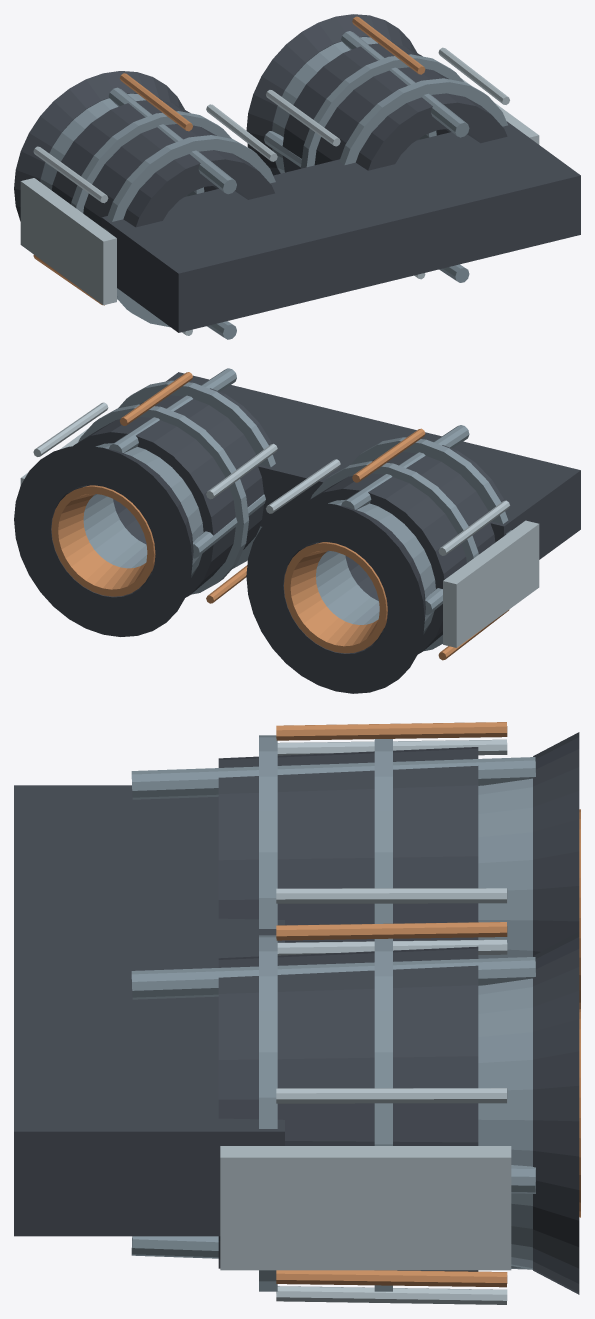
The model's file is engine_stock_v2.glb.
The picture shows the model from 3 angles, top to bottom: view 1: azimuth 30°, elevation 25°; view 2: azimuth 150°, elevation 25°; view 3: azimuth 270°, elevation 25°; orthographic projection. The views are drawn at different scales.
Visible parts, largest first — view 1: ENGINE_MODULAR_CASSETTE_CRADLE, ENGINE_1_STRUCTURAL_CHAMBER, ENGINE_-1_STRUCTURAL_CHAMBER, ENGINE_-1_SPLIT_SIDE_ARMOR, ENGINE_1_RECESSED_BELL, ENGINE_-1_RECESSED_BELL, ENGINE_-1_SERVICE_COLLAR_0, ENGINE_1_SERVICE_COLLAR_0, ENGINE_1_SERVICE_COLLAR_1, ENGINE_-1_SERVICE_COLLAR_1, ENGINE_1_THROAT, ENGINE_-1_THROAT (+9 smaller); view 2: ENGINE_-1_RECESSED_BELL, ENGINE_1_RECESSED_BELL, ENGINE_MODULAR_CASSETTE_CRADLE, ENGINE_1_STRUCTURAL_CHAMBER, ENGINE_-1_STRUCTURAL_CHAMBER, ENGINE_-1_SPLIT_SIDE_ARMOR, ENGINE_1_HEATED_INNER_LIP, ENGINE_-1_HEATED_INNER_LIP, ENGINE_-1_THROAT, ENGINE_1_THROAT, ENGINE_1_SERVICE_COLLAR_1, ENGINE_1_SERVICE_COLLAR_0 (+12 smaller); view 3: ENGINE_MODULAR_CASSETTE_CRADLE, ENGINE_1_STRUCTURAL_CHAMBER, ENGINE_1_SPLIT_SIDE_ARMOR, ENGINE_-1_STRUCTURAL_CHAMBER, ENGINE_1_RECESSED_BELL, ENGINE_1_THROAT, ENGINE_-1_RECESSED_BELL, ENGINE_-1_THROAT, ENGINE_1_SUSPENSION_RAIL_1.57, ENGINE_-1_SUSPENSION_RAIL_1.57, ENGINE_1_SERVICE_COLLAR_0, ENGINE_1_SERVICE_COLLAR_1 (+11 smaller).
Part boxes in pixels (<box>): ENGINE_MODULAR_CASSETTE_CRADLE: <box>101,121,580,332</box>; ENGINE_1_STRUCTURAL_CHAMBER: <box>282,43,507,172</box>; ENGINE_-1_STRUCTURAL_CHAMBER: <box>52,100,274,227</box>; ENGINE_-1_SPLIT_SIDE_ARMOR: <box>20,178,116,305</box>; ENGINE_1_RECESSED_BELL: <box>246,14,416,175</box>; ENGINE_-1_RECESSED_BELL: <box>14,71,184,221</box>; ENGINE_-1_SERVICE_COLLAR_0: <box>103,135,275,327</box>; ENGINE_1_SERVICE_COLLAR_0: <box>339,78,507,165</box>; ENGINE_1_SERVICE_COLLAR_1: <box>301,54,463,168</box>; ENGINE_-1_SERVICE_COLLAR_1: <box>71,111,231,299</box>; ENGINE_1_THROAT: <box>272,37,436,173</box>; ENGINE_-1_THROAT: <box>40,93,204,197</box>; ENGINE_-1_RECESSED_BELL: <box>246,502,425,693</box>; ENGINE_1_RECESSED_BELL: <box>14,445,193,636</box>; ENGINE_MODULAR_CASSETTE_CRADLE: <box>166,372,580,559</box>; ENGINE_1_STRUCTURAL_CHAMBER: <box>73,388,271,597</box>; ENGINE_-1_STRUCTURAL_CHAMBER: <box>305,445,504,654</box>; ENGINE_-1_SPLIT_SIDE_ARMOR: <box>443,520,539,647</box>; ENGINE_1_HEATED_INNER_LIP: <box>51,485,155,596</box>; ENGINE_-1_HEATED_INNER_LIP: <box>284,542,387,653</box>; ENGINE_-1_THROAT: <box>315,499,435,634</box>; ENGINE_1_THROAT: <box>83,443,203,577</box>; ENGINE_1_SERVICE_COLLAR_1: <box>78,404,248,594</box>; ENGINE_1_SERVICE_COLLAR_0: <box>118,380,275,568</box>; ENGINE_MODULAR_CASSETTE_CRADLE: <box>14,785,284,1236</box>; ENGINE_1_STRUCTURAL_CHAMBER: <box>218,946,478,1271</box>; ENGINE_1_SPLIT_SIDE_ARMOR: <box>220,1146,511,1270</box>; ENGINE_-1_STRUCTURAL_CHAMBER: <box>218,747,478,942</box>; ENGINE_1_RECESSED_BELL: <box>533,932,579,1294</box>; ENGINE_1_THROAT: <box>478,978,532,1269</box>; ENGINE_-1_RECESSED_BELL: <box>533,732,579,955</box>; ENGINE_-1_THROAT: <box>478,778,532,958</box>; ENGINE_1_SUSPENSION_RAIL_1.57: <box>131,957,535,999</box>; ENGINE_-1_SUSPENSION_RAIL_1.57: <box>131,757,535,799</box>; ENGINE_1_SERVICE_COLLAR_0: <box>259,935,277,1291</box>; ENGINE_1_SERVICE_COLLAR_1: <box>374,938,392,1291</box>.
Size of the model in its own units: 1.54 by 0.7318 by 0.983.
